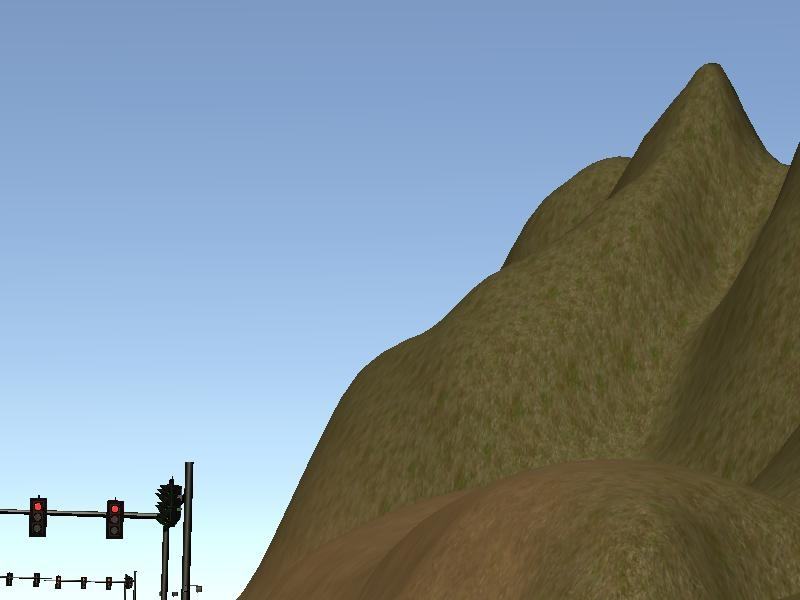red: (24, 493, 54, 540), (103, 493, 130, 544)
